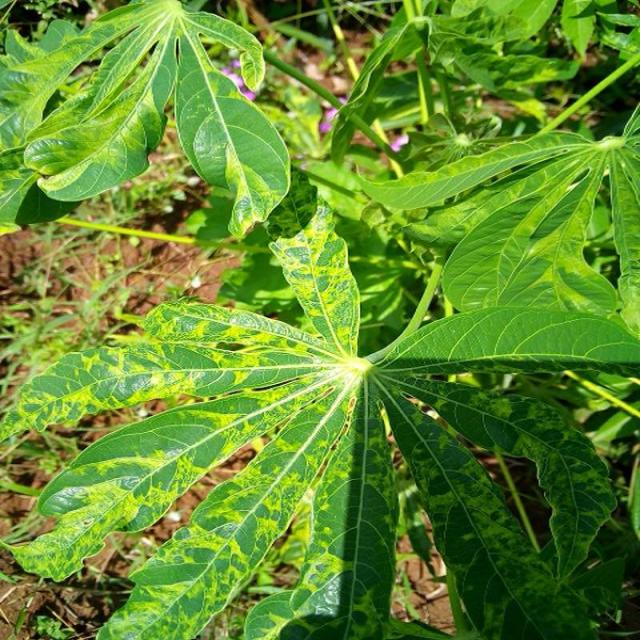cassava leaf: (3, 195, 639, 638), (1, 0, 292, 240)
